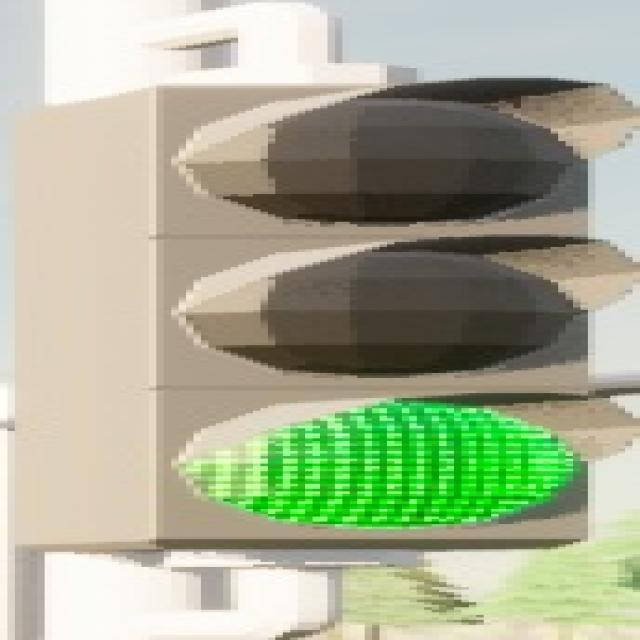green_light: (0, 73, 640, 588)
